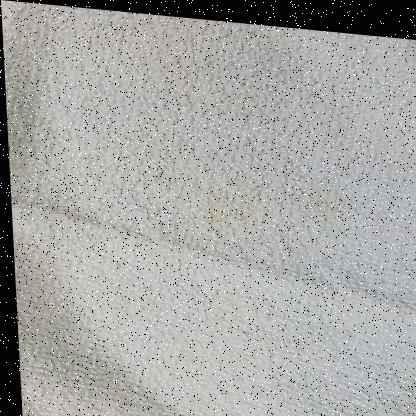spot: (191, 168, 269, 235), (289, 174, 361, 224)
